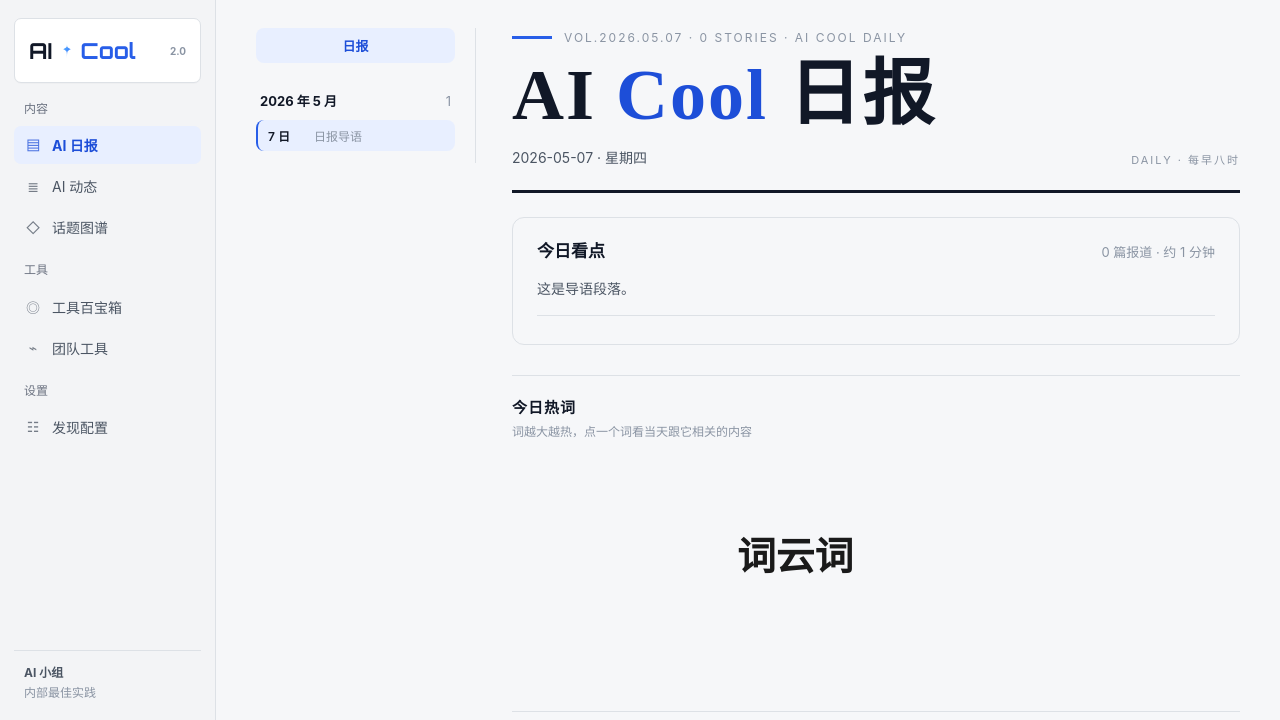
Test: exposes the complete AI news navigation from the home sidebar
The image size is (1280, 720).
Check: the text "日报导语" is shown, box top-left (314, 129), bottom-right (362, 144)
Click the button "≣ AI 动态": (108,186) top-left (14, 167), bottom-right (201, 205)
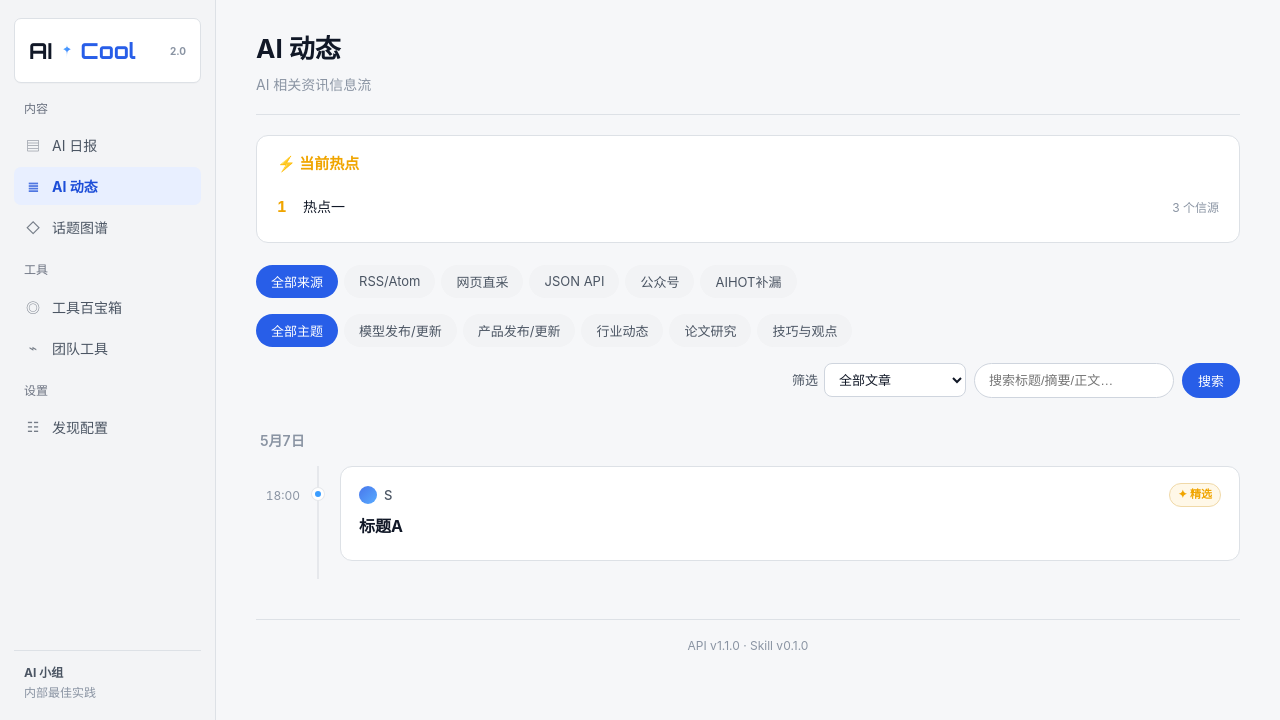
Check: the heading "AI 动态" is shown, box top-left (256, 33), bottom-right (341, 64)
